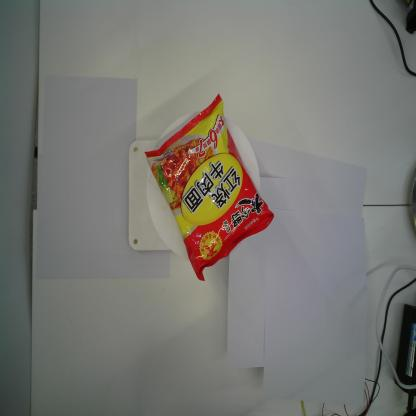Instant Noodles: (143, 91, 276, 284)
